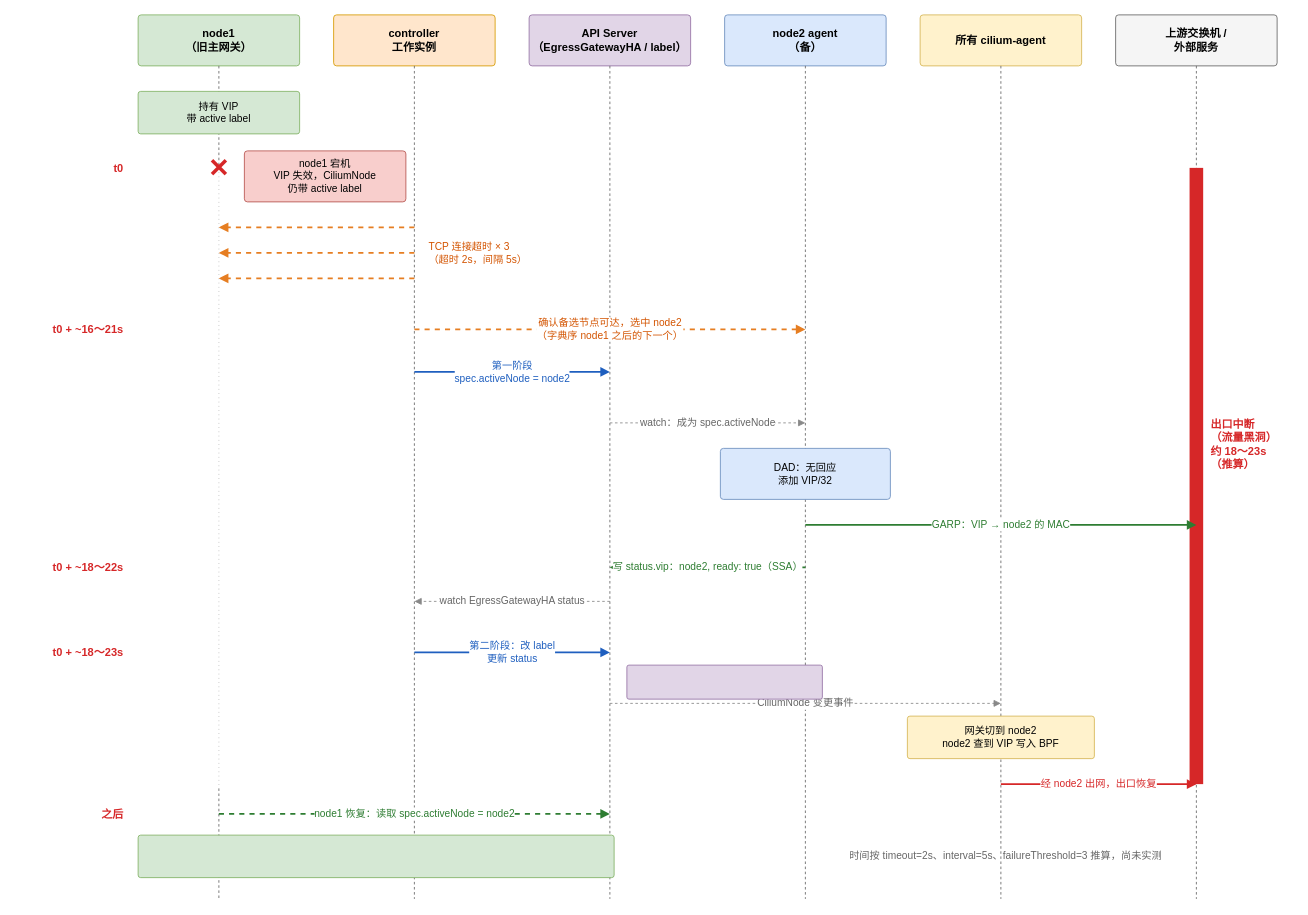
The diagram is 1308 pixels wide and 915 high, and some of its shapes have lost their labels. The shapes that lost their labels are listed below. From the top down, each one's box as (x1, y1, x2, y2) in pixels, then its label:
(626, 664, 822, 699): node2 打 label，删除 node1 label status.activeNode = node2
(137, 834, 614, 878): node1 不是 activeNode：删除残留 VIP（节点重启后已不存在），作为备节点运行，不切回 需要切回时，由运维修改 spec.activeNode
